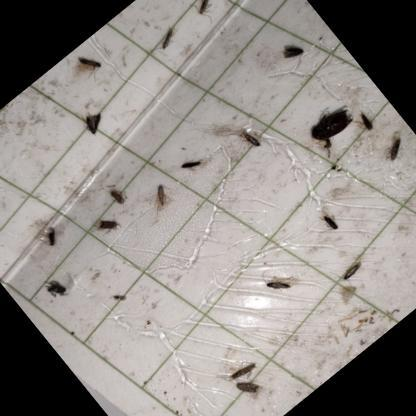prays_oleae: (280, 83, 365, 167), (245, 251, 310, 319), (57, 84, 117, 149), (322, 240, 382, 301), (264, 23, 322, 84), (362, 118, 416, 180), (136, 8, 190, 65), (29, 210, 80, 266), (83, 200, 133, 254), (214, 341, 262, 389), (226, 113, 271, 163), (30, 264, 76, 312), (66, 38, 112, 85), (139, 171, 182, 217), (230, 370, 273, 412), (182, 0, 235, 34), (97, 174, 136, 218), (173, 142, 213, 184), (310, 198, 350, 240), (346, 102, 381, 138)
